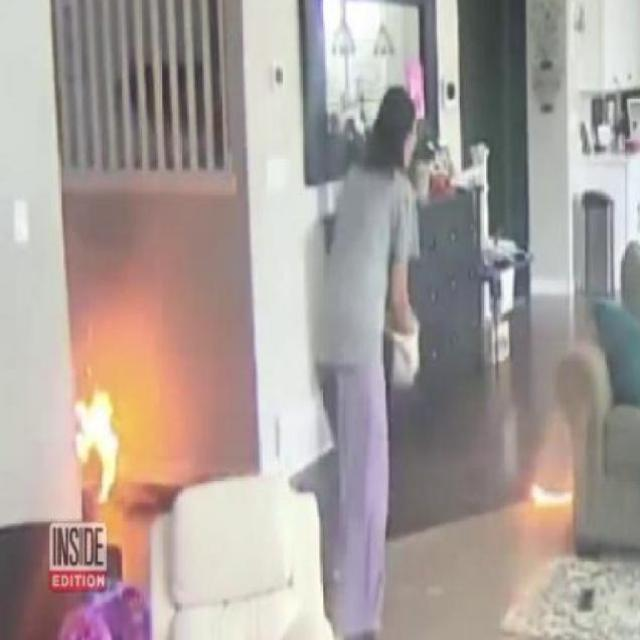smoke: (66, 384, 128, 510), (528, 479, 576, 510)
